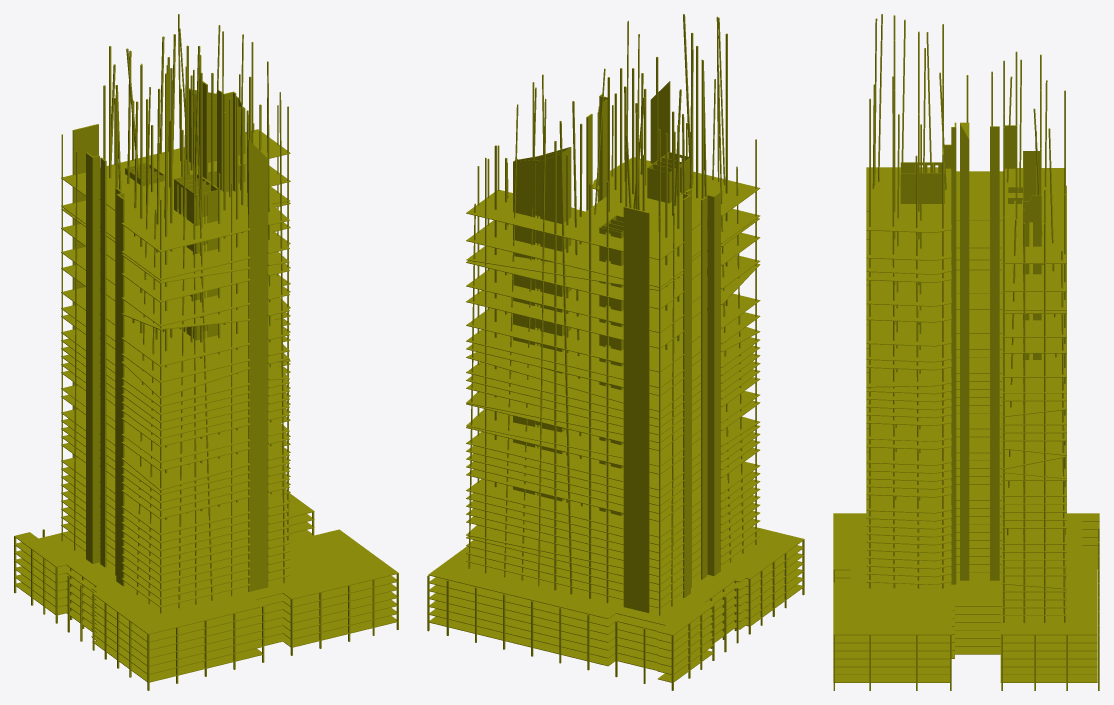
File: Building_06_7.FBX
The picture shows the model from 3 angles, left to right: view 1: azimuth 30°, elevation 25°; view 2: azimuth 150°, elevation 25°; view 3: azimuth 270°, elevation 25°; orthographic projection. The views are drawn at different scales.
Parts seen in each view (by area): view 1: Building_06_7; view 2: Building_06_7; view 3: Building_06_7.
Boxes of the visible parts, box(x1,y1,x2,y2) form: Building_06_7: box(14, 14, 398, 690); Building_06_7: box(427, 14, 804, 690); Building_06_7: box(833, 14, 1099, 690).
Size of the model in its own units: 104601 by 238017 by 97007.
